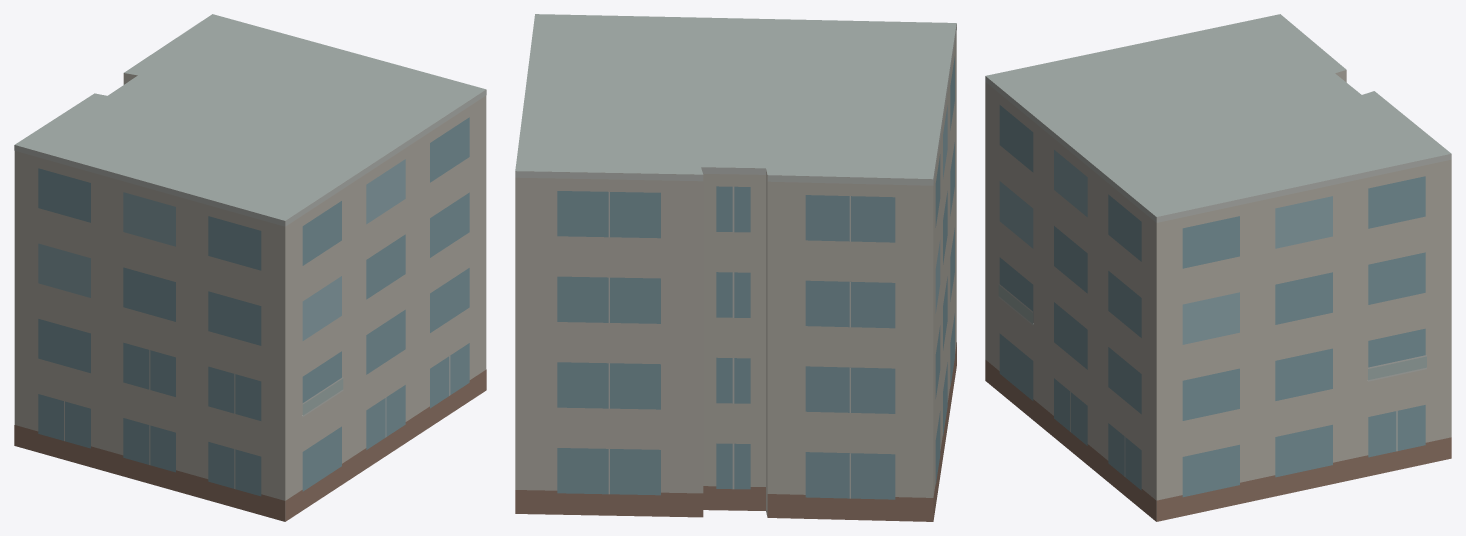
The model's file is survey-upis-32747021.glb.
3 renders of one model, left to right at view 1: azimuth 30°, elevation 25°; view 2: azimuth 150°, elevation 25°; view 3: azimuth 270°, elevation 25°, orthographic. The views are drawn at different scales.
Parts seen in each view (by area): view 1: survey-upis-32747021.tmp; view 2: survey-upis-32747021.tmp; view 3: survey-upis-32747021.tmp.
Boxes of the visible parts, box(x1,y1,x2,y2) form: survey-upis-32747021.tmp: box(14, 14, 486, 521); survey-upis-32747021.tmp: box(515, 14, 956, 521); survey-upis-32747021.tmp: box(985, 14, 1451, 521).
Size of the model in its own units: 18.01 by 12.6 by 17.48.
